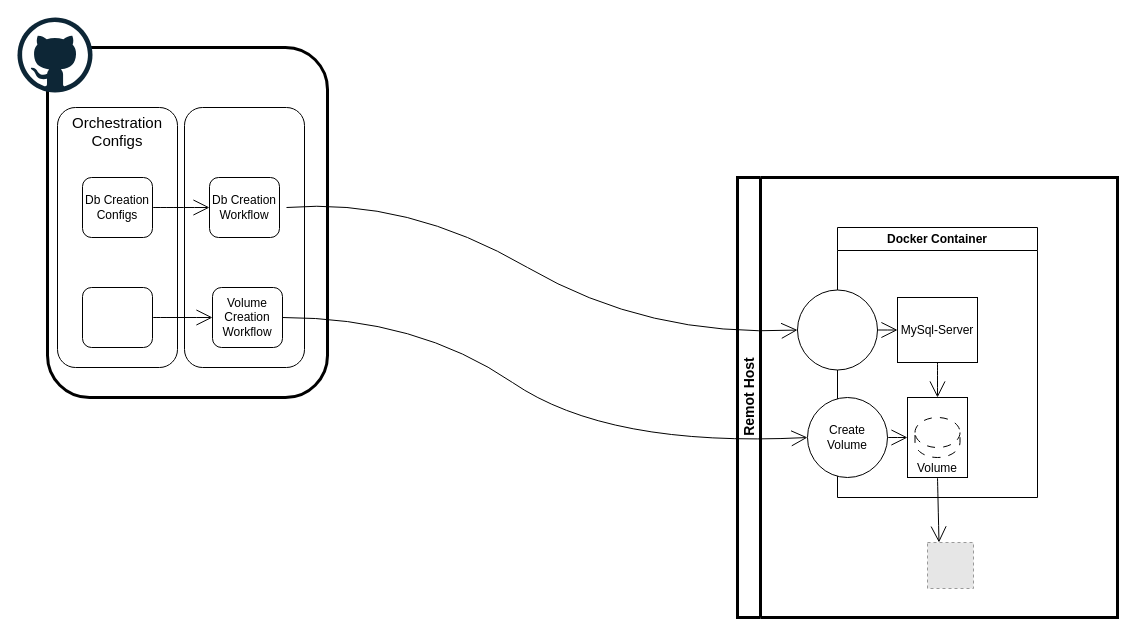
This 1136x636 diagram has some shape labels left out. Grey dashed boxes stand in for pictures. The box of each missing label's shape, as (x1, y1, x2, y2) in pixels:
Create Database: (796, 289, 878, 370)
GitHub: (46, 46, 328, 398)
Orchestration Artifacts: (184, 106, 304, 368)
Volume Creation Configs: (82, 286, 152, 348)
